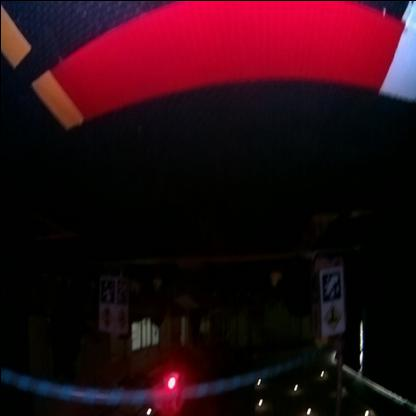Duckie: (271, 272, 278, 285), (154, 280, 160, 288)
Intersection sign: (322, 304, 340, 334), (115, 307, 126, 331)
QR code: (319, 270, 341, 302), (100, 279, 112, 305), (116, 280, 126, 305)
Signal sign: (98, 307, 112, 329)
Traffic light: (162, 375, 176, 410)
